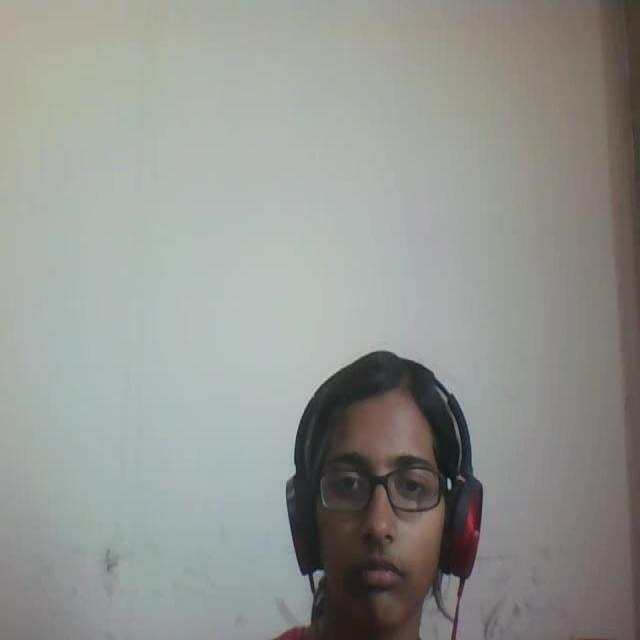Engaged: (276, 345, 491, 640)
